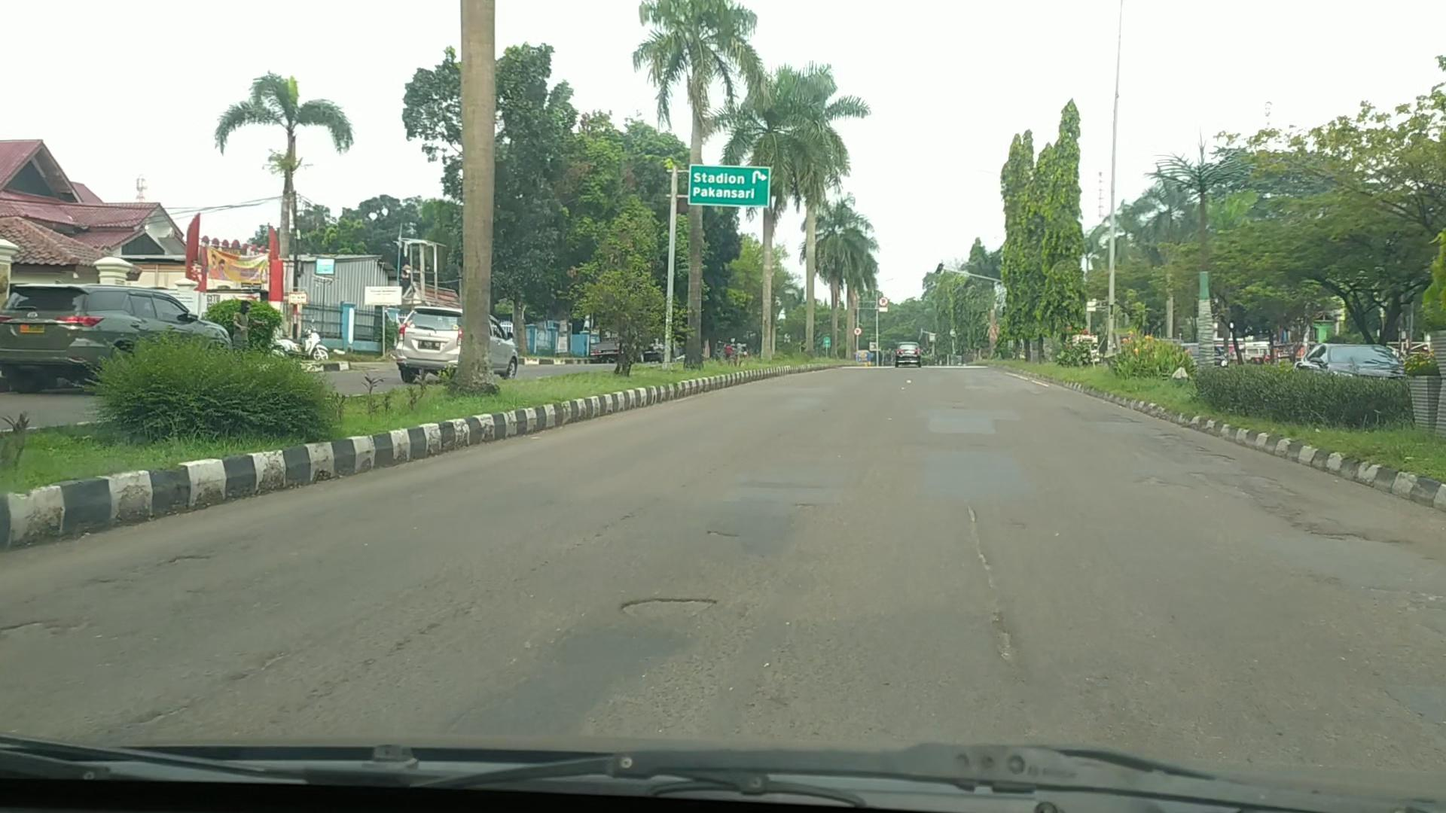pothole: (620, 596, 719, 619), (0, 619, 83, 639), (170, 554, 212, 564)
